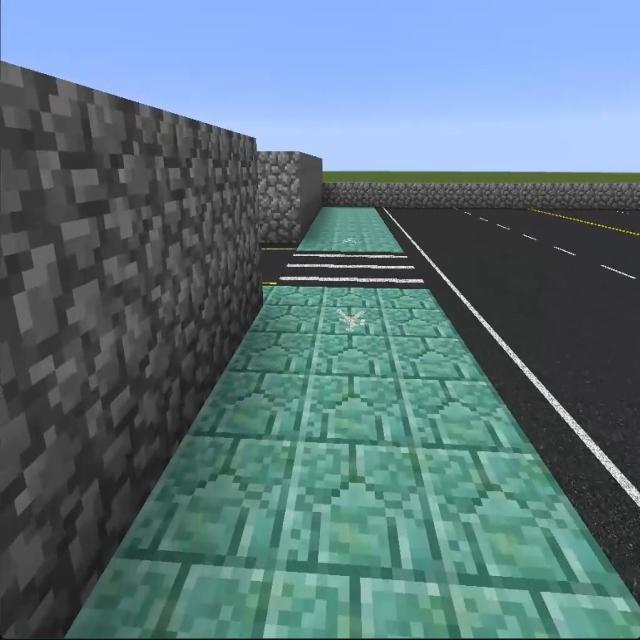crosswalk: (278, 251, 433, 286)
road: (382, 207, 636, 574), (260, 247, 294, 282)
sidewalk: (71, 288, 637, 634), (301, 206, 399, 250)
